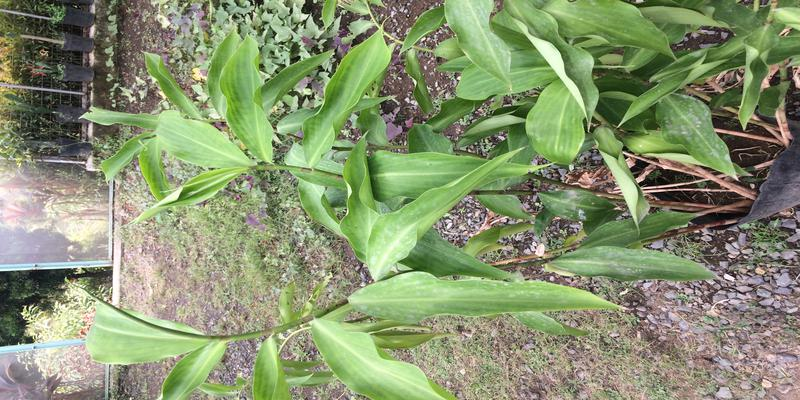Insulin: (341, 31, 747, 289)
